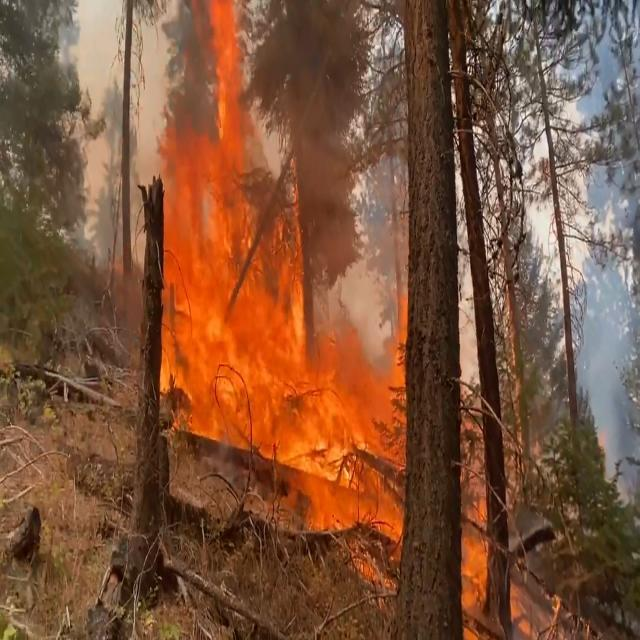Fire: (142, 3, 496, 610)
